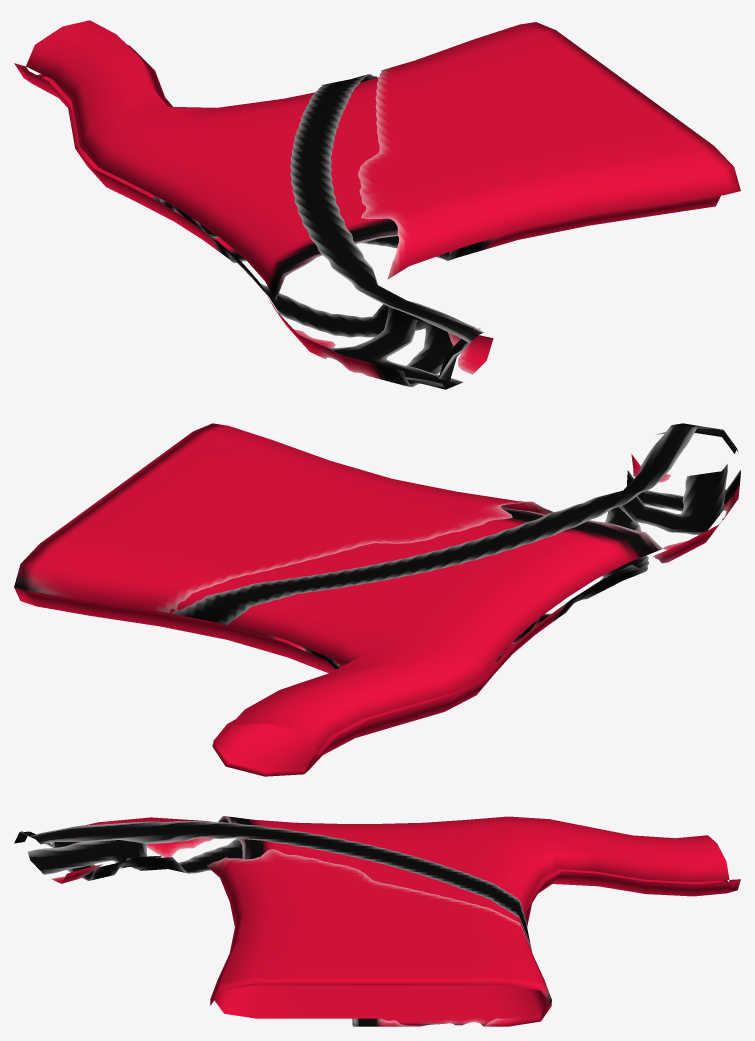
The model's file is tshirt.fbx.
3 views of the same model, one above another, from view 1: azimuth 30°, elevation 25°; view 2: azimuth 150°, elevation 25°; view 3: azimuth 270°, elevation 25° (orthographic). The views are drawn at different scales.
Parts seen in each view (by area): view 1: shirt; view 2: shirt; view 3: shirt.
Boxes of the visible parts, x1,y1,x2,y2 form: shirt: (14,20,740,389); shirt: (14,423,740,776); shirt: (14,816,740,1026).
Size of the model in its own units: 116 by 13.01 by 188.
